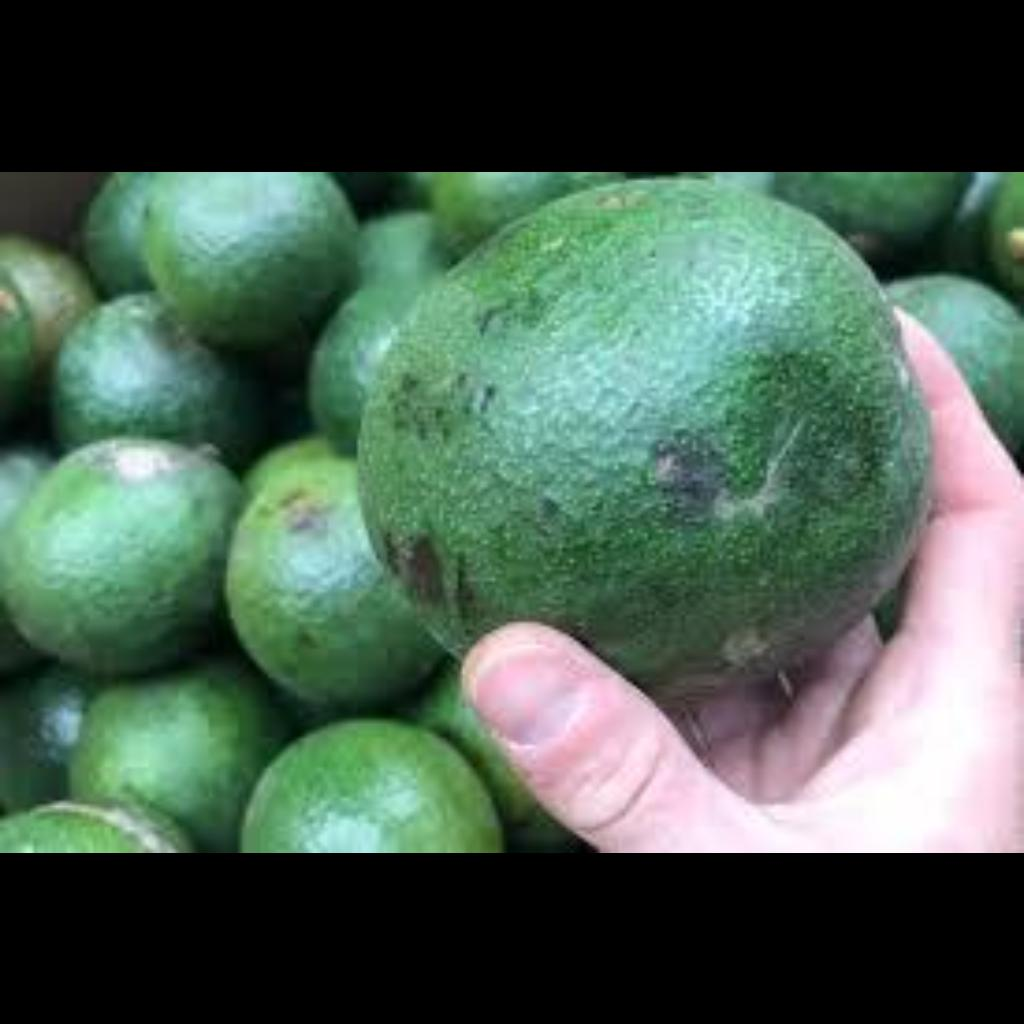cercospora: (341, 255, 769, 616)
